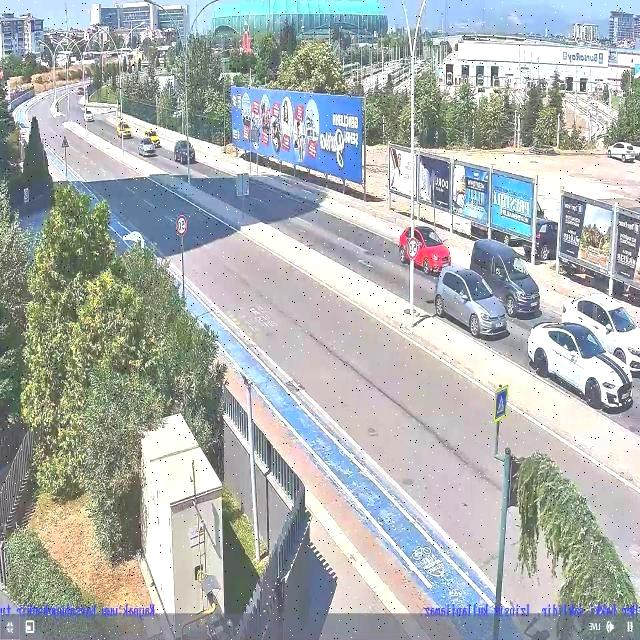Car: (528, 321, 633, 412), (560, 291, 640, 372), (433, 266, 508, 338), (398, 226, 451, 274), (518, 220, 560, 261), (606, 142, 638, 162), (173, 140, 195, 164), (138, 138, 156, 157), (144, 129, 161, 147), (116, 122, 132, 138), (83, 110, 95, 122)
Van: (469, 239, 542, 314)
